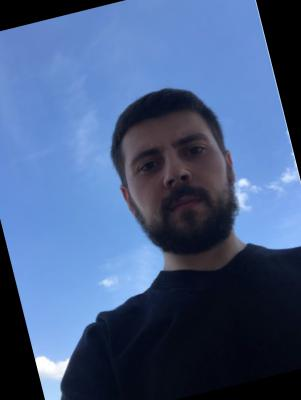without_mask: (118, 123, 245, 267)
